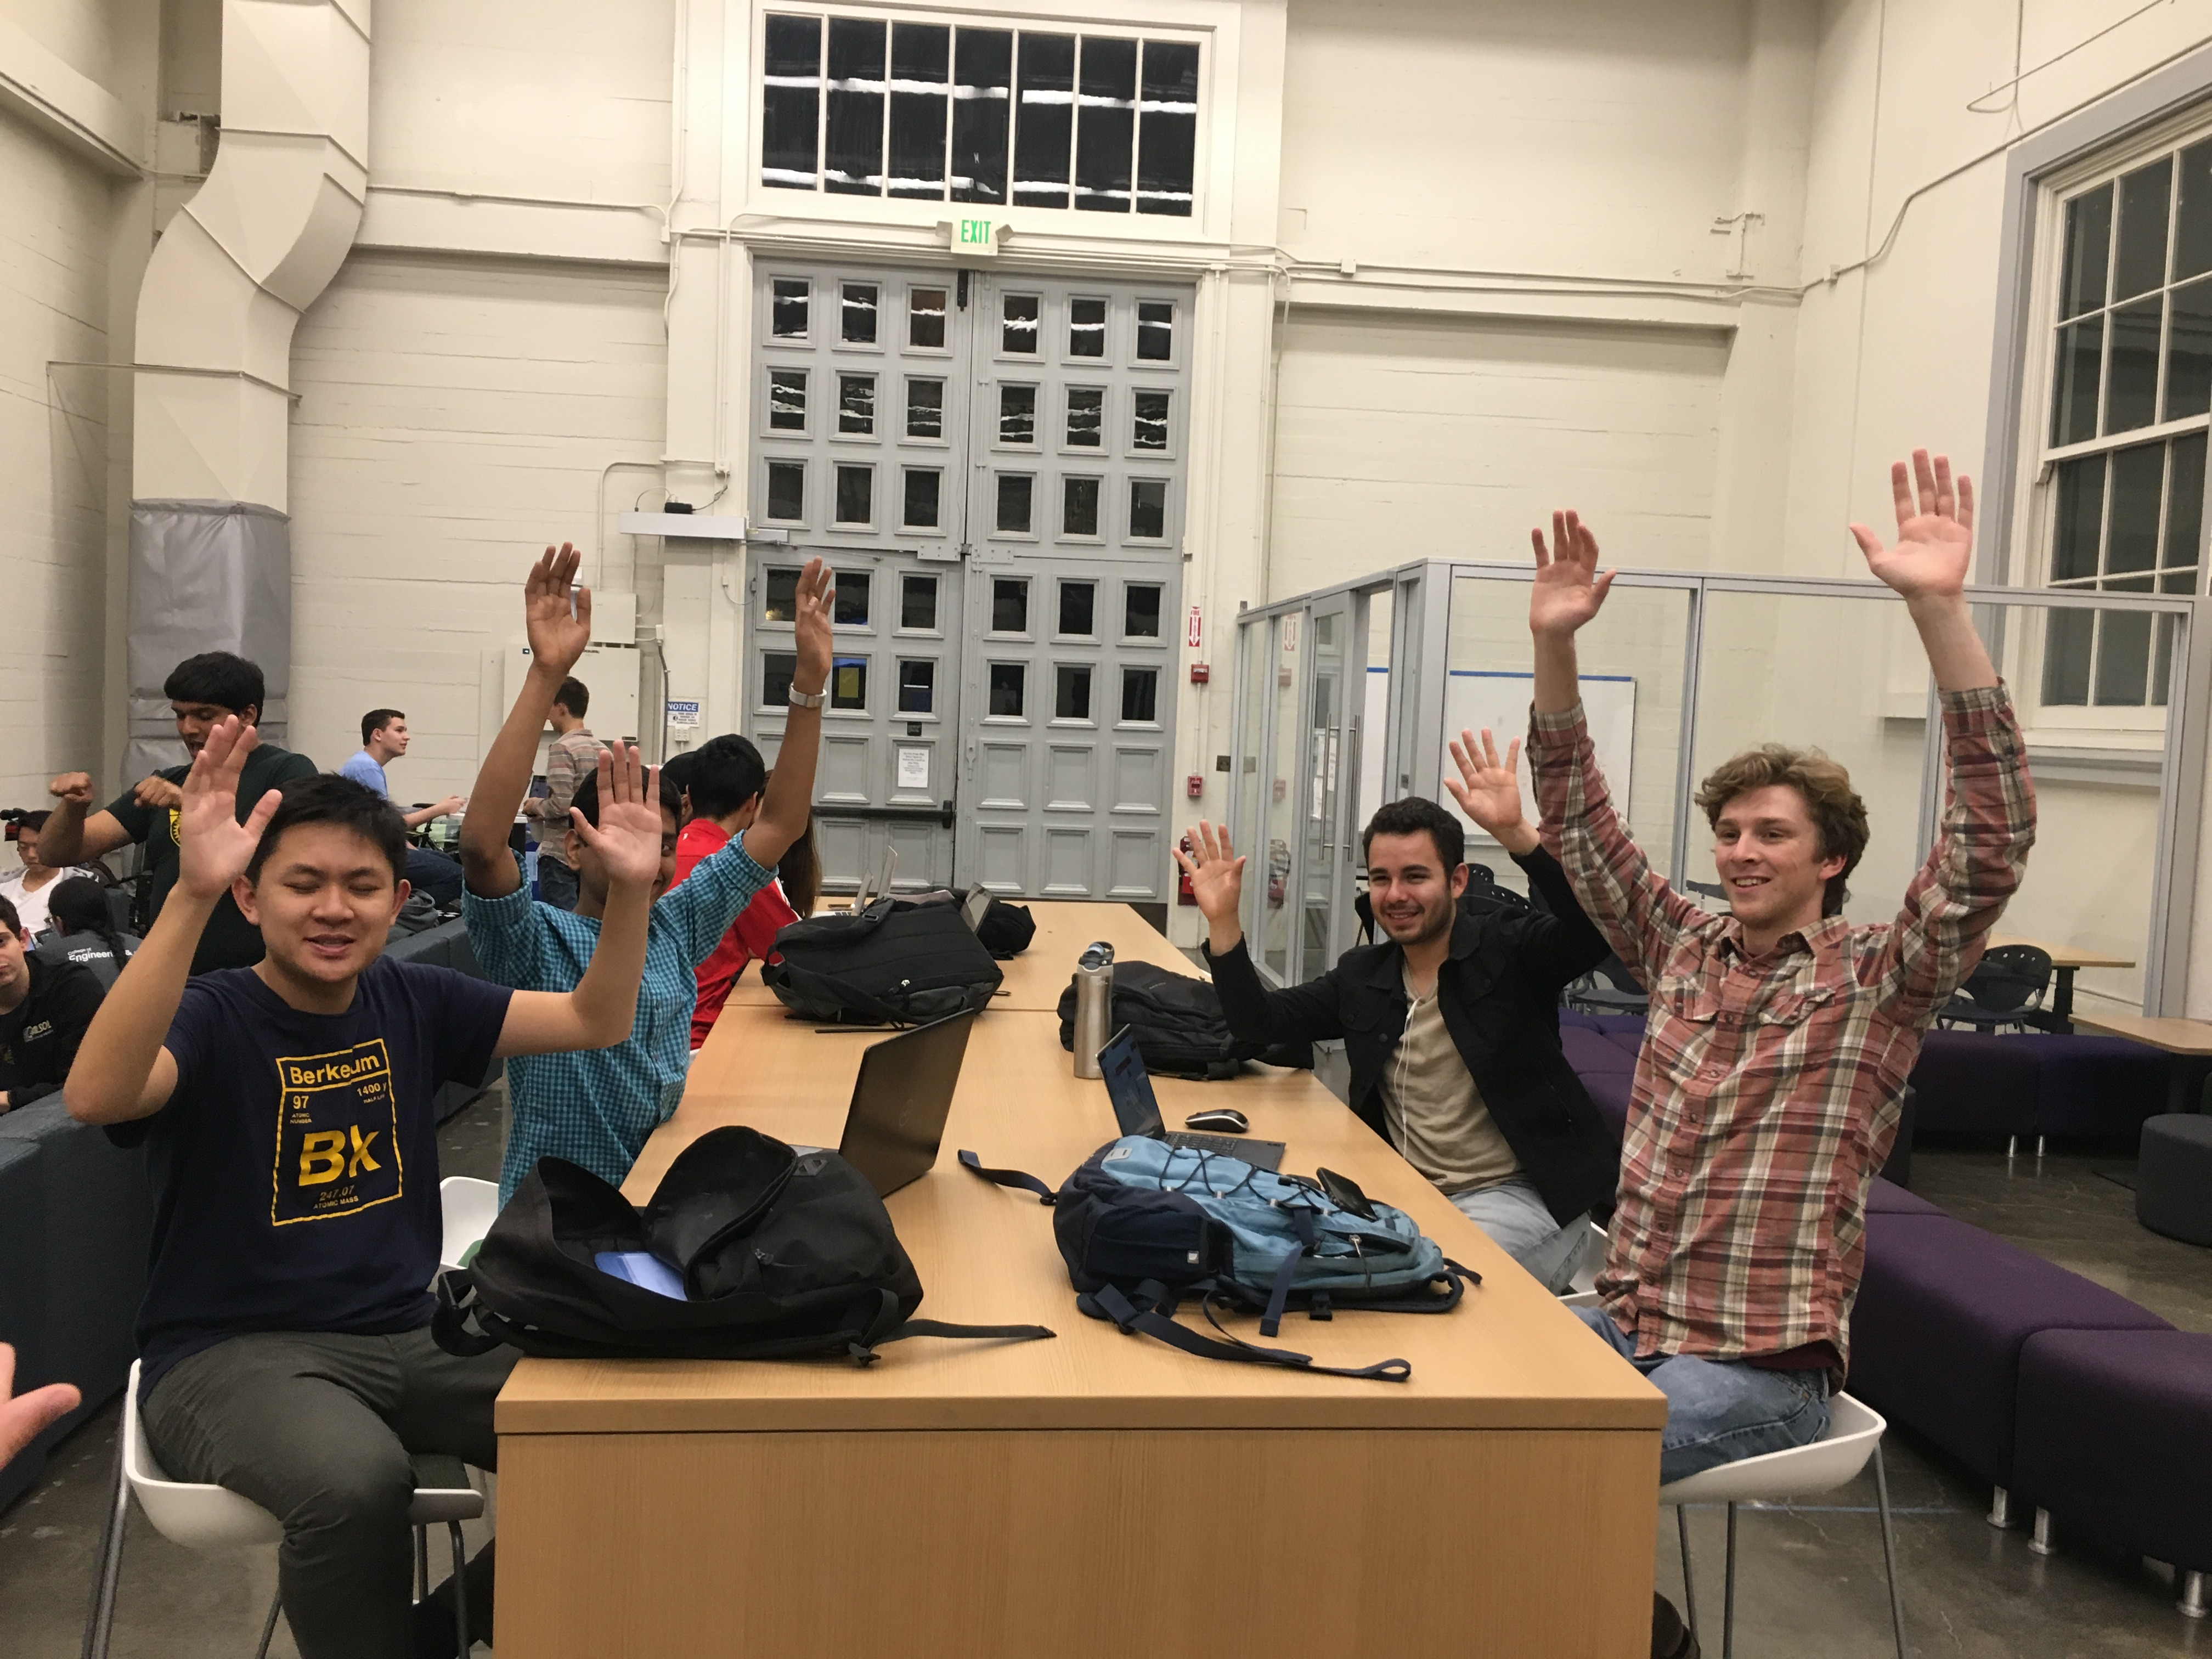hand: (164, 704, 287, 885), (1844, 443, 1986, 598), (563, 730, 671, 875), (1512, 495, 1616, 631), (510, 528, 603, 666), (768, 551, 852, 673), (1428, 721, 1527, 823), (1157, 810, 1251, 917)
